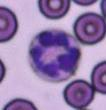N: (28, 28, 80, 81)
